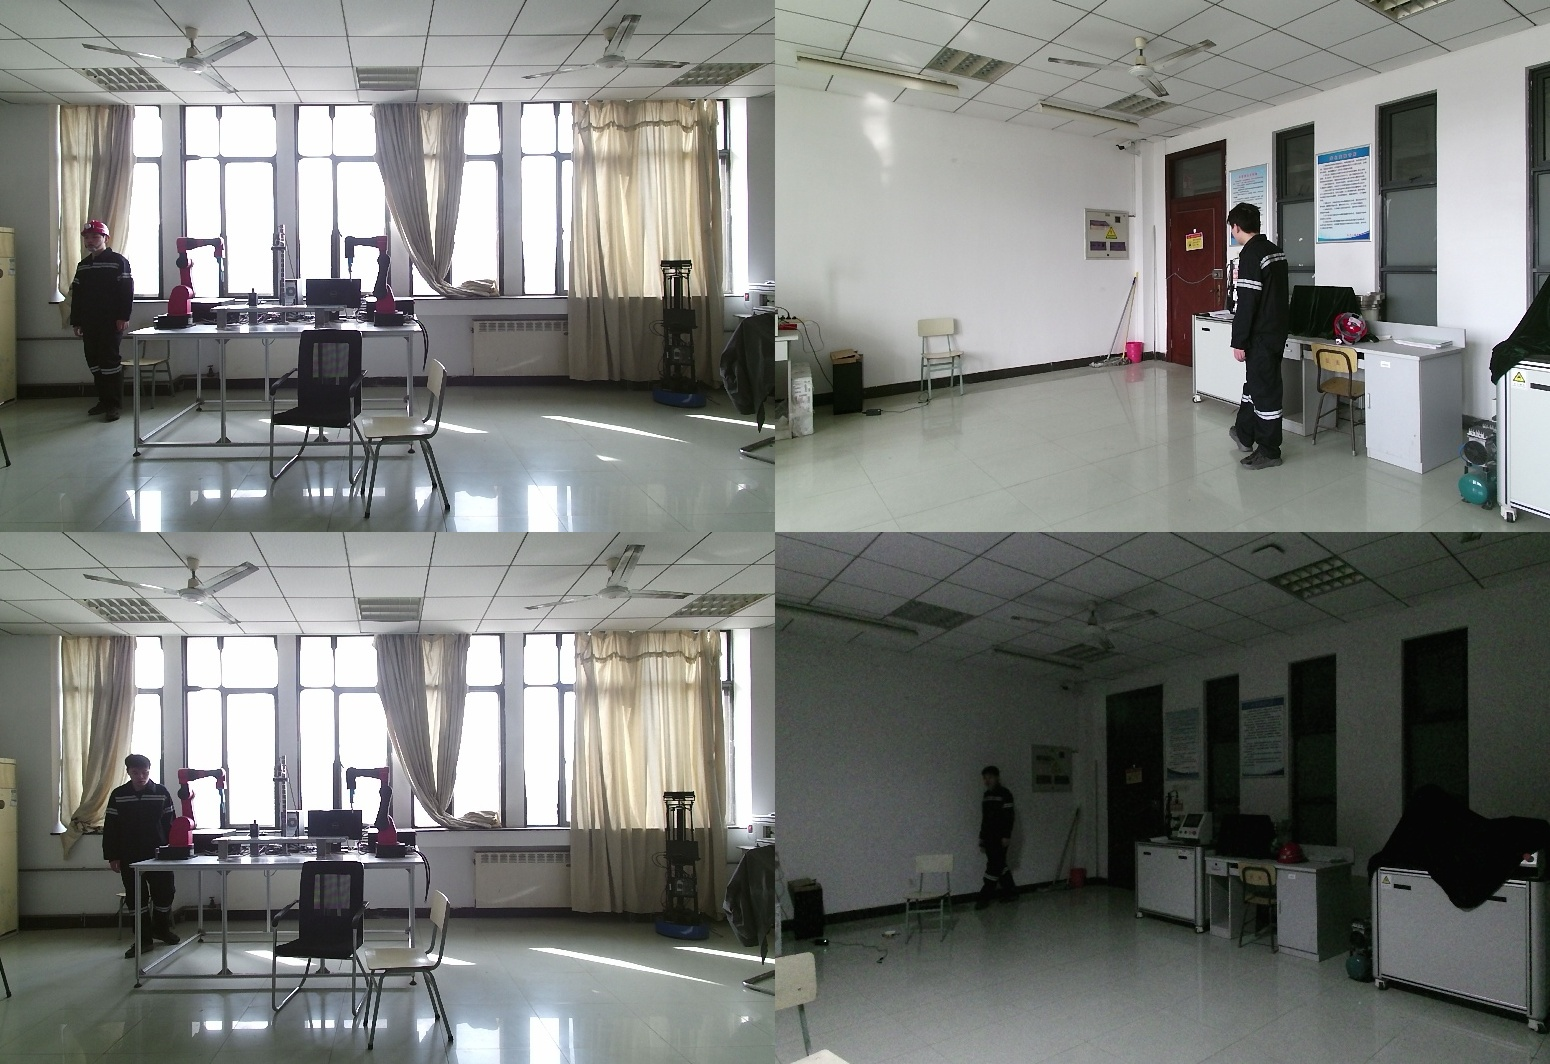person: (1231, 202, 1308, 470), (96, 754, 185, 957), (59, 222, 133, 422), (976, 768, 1022, 910)
